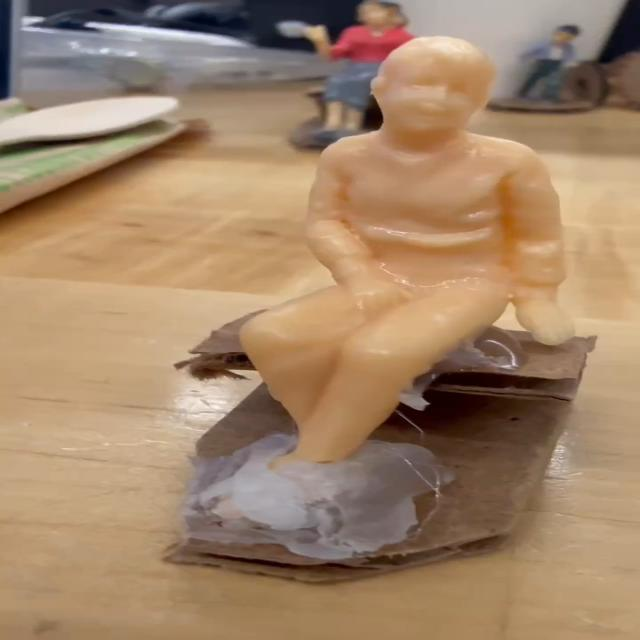Unauthorized: (194, 39, 640, 528)
